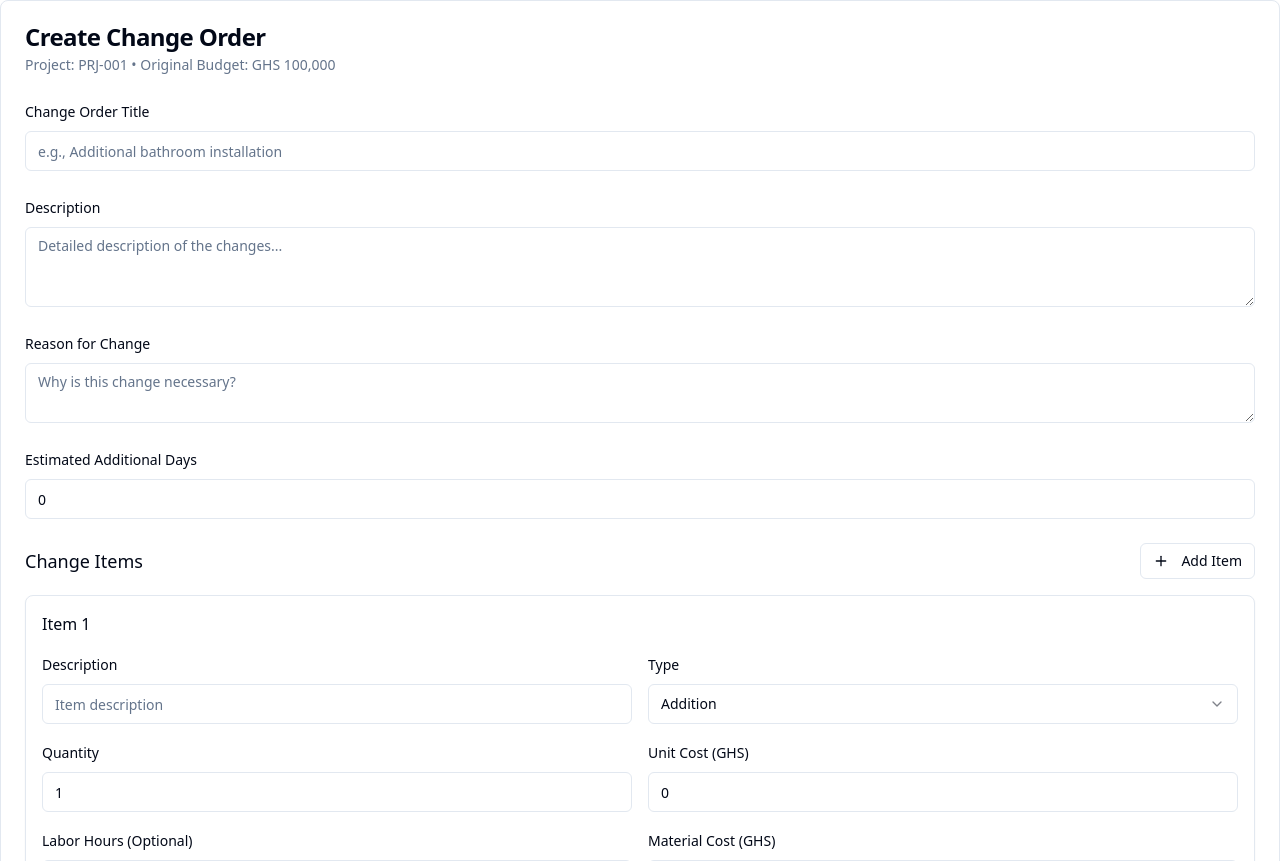
ChangeOrderForm › removes change items
Add a second item first
Click the button "Add Item" at (1198, 561), box [1140,543,1255,579]
(page scrolled)
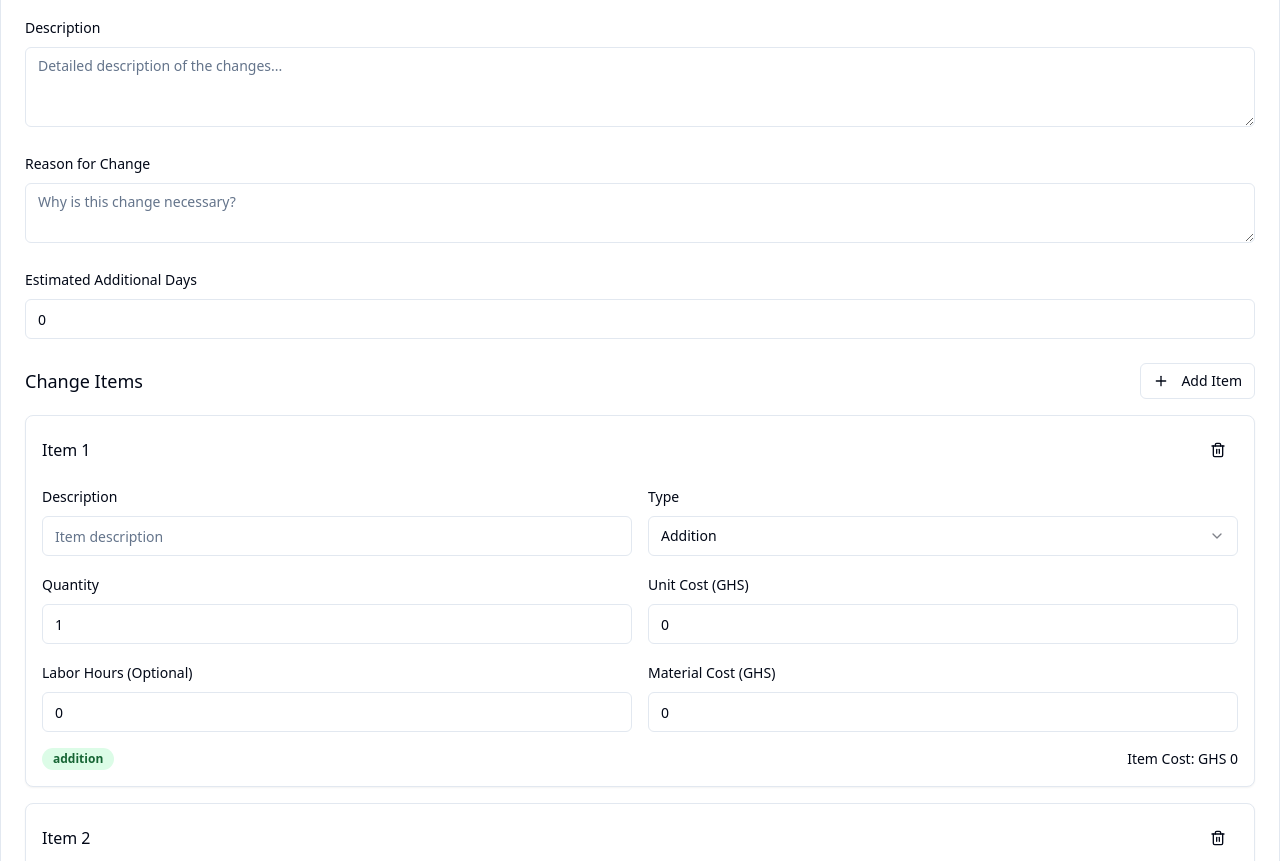
Click the 2nd button at (1218, 450), box [1198,432,1238,468]
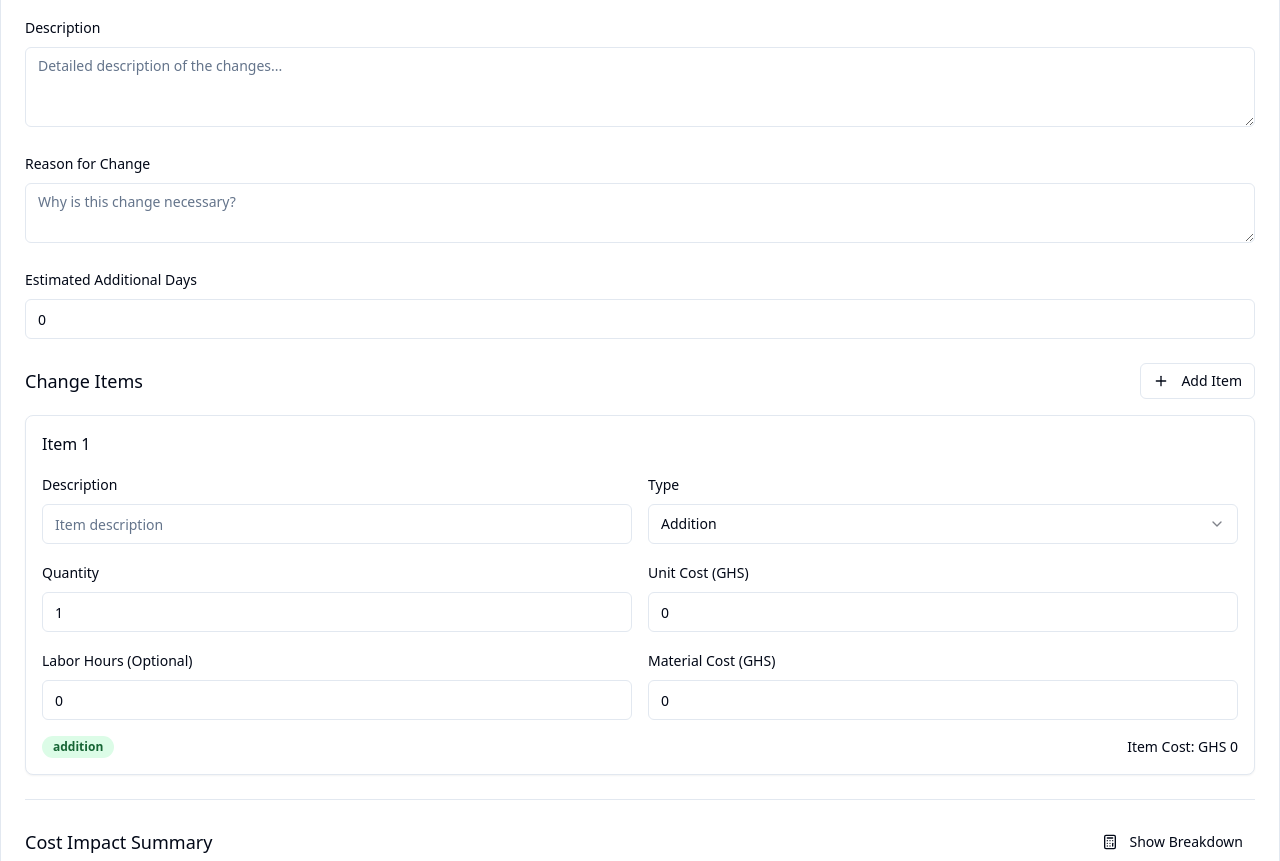
Now the heading "Item 2" is gone
